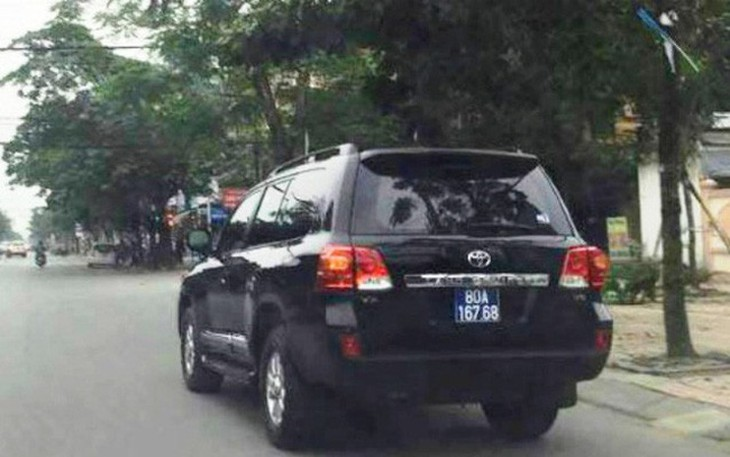plate: (452, 285, 504, 324)
